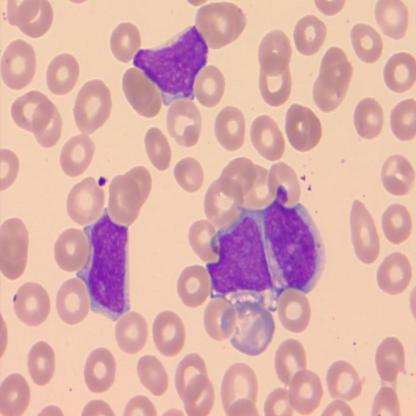Blast: (204, 203, 282, 320), (258, 182, 328, 298), (131, 22, 210, 106), (75, 206, 132, 322)
